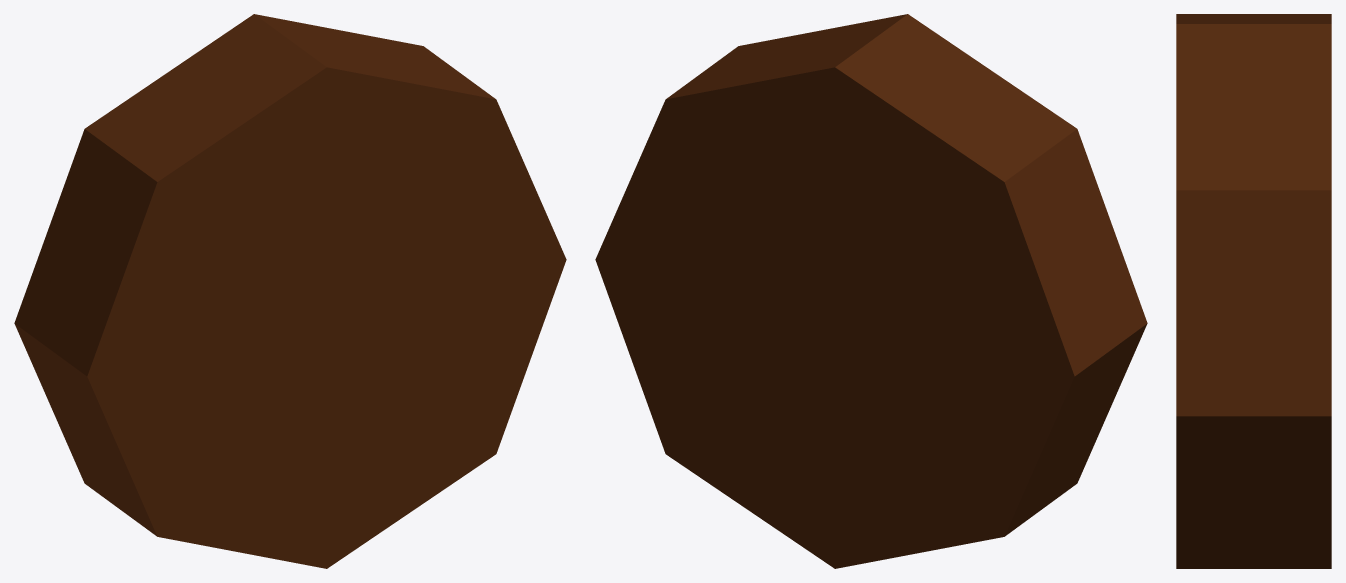
File: Boton03.fbx
3 renders of one model, left to right at view 1: azimuth 30°, elevation 25°; view 2: azimuth 150°, elevation 25°; view 3: azimuth 270°, elevation 25°, orthographic. The views are drawn at different scales.
Parts seen in each view (by area): view 1: Boton03; view 2: Boton03; view 3: Boton03.
Boxes of the visible parts, bbox=[...] form: Boton03: bbox=[14, 14, 566, 568]; Boton03: bbox=[595, 14, 1147, 568]; Boton03: bbox=[1176, 14, 1331, 568].
Bounding box in the file's own units: 0.02 × 0.02 × 0.00527.
